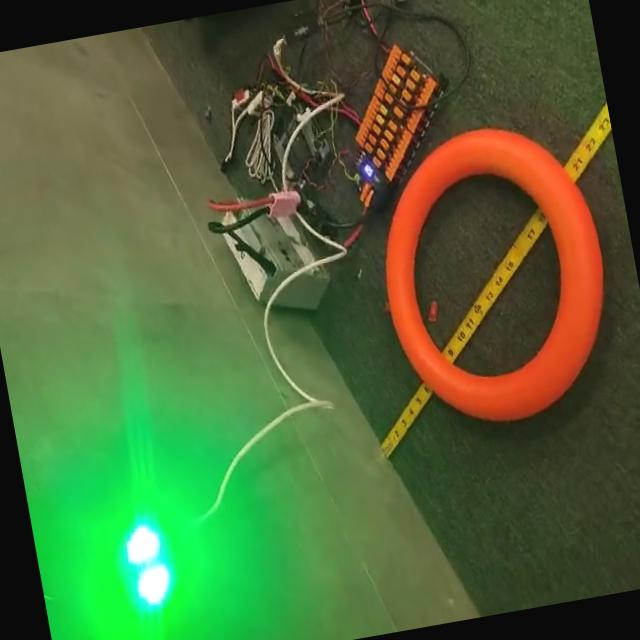note: (360, 112, 630, 441)
